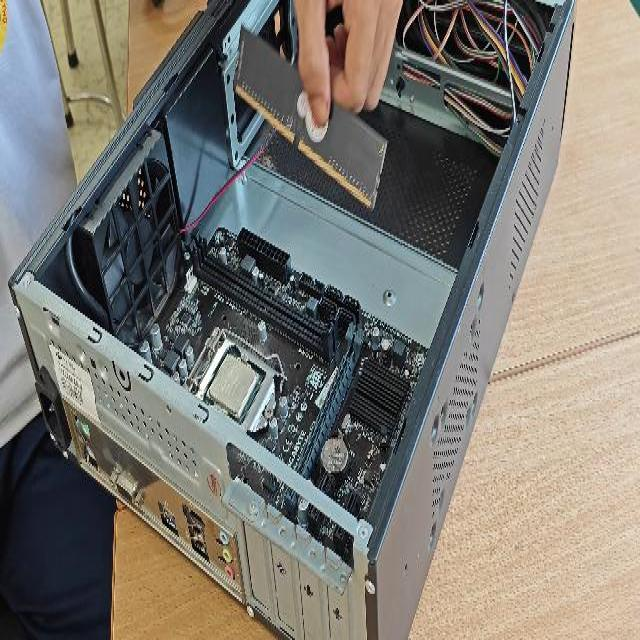CPU: (205, 353, 258, 419)
Mainboard: (140, 225, 428, 559)
RAM: (232, 24, 386, 214)
